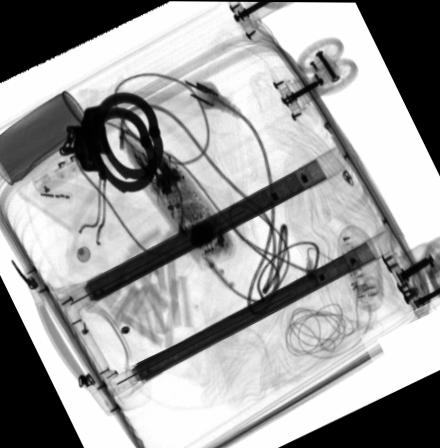HandCuffs: (58, 91, 165, 196)
